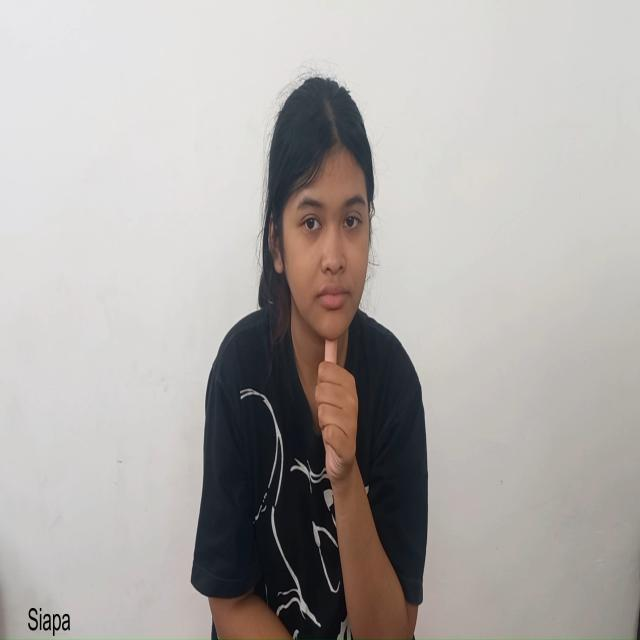Siapa -BISINDO-: (265, 68, 377, 488)
